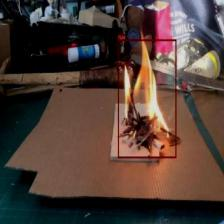fire: (118, 39, 176, 158)
